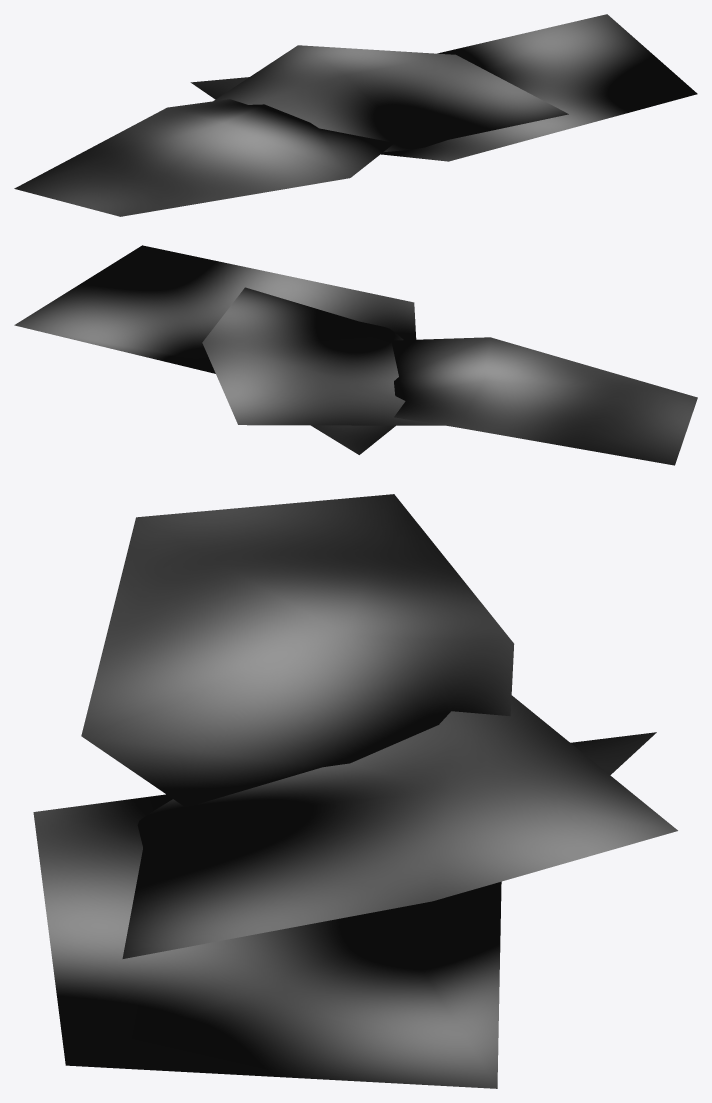
The model's file is SM_Ivy_Plane_062.fbx.
The picture shows the model from 3 angles, top to bottom: view 1: azimuth 30°, elevation 25°; view 2: azimuth 150°, elevation 25°; view 3: azimuth 270°, elevation 25°; orthographic projection. The views are drawn at different scales.
Parts seen in each view (by area): view 1: SM_Ivy_Plane_062; view 2: SM_Ivy_Plane_062; view 3: SM_Ivy_Plane_062.
Boxes of the visible parts, x1,y1,x2,y2 form: SM_Ivy_Plane_062: (14, 14, 697, 216); SM_Ivy_Plane_062: (14, 245, 697, 465); SM_Ivy_Plane_062: (33, 494, 677, 1088).
Bounding box in the file's own units: 173 × 77.89 × 9.97.
Materials: 1 (1 with a texture image).
